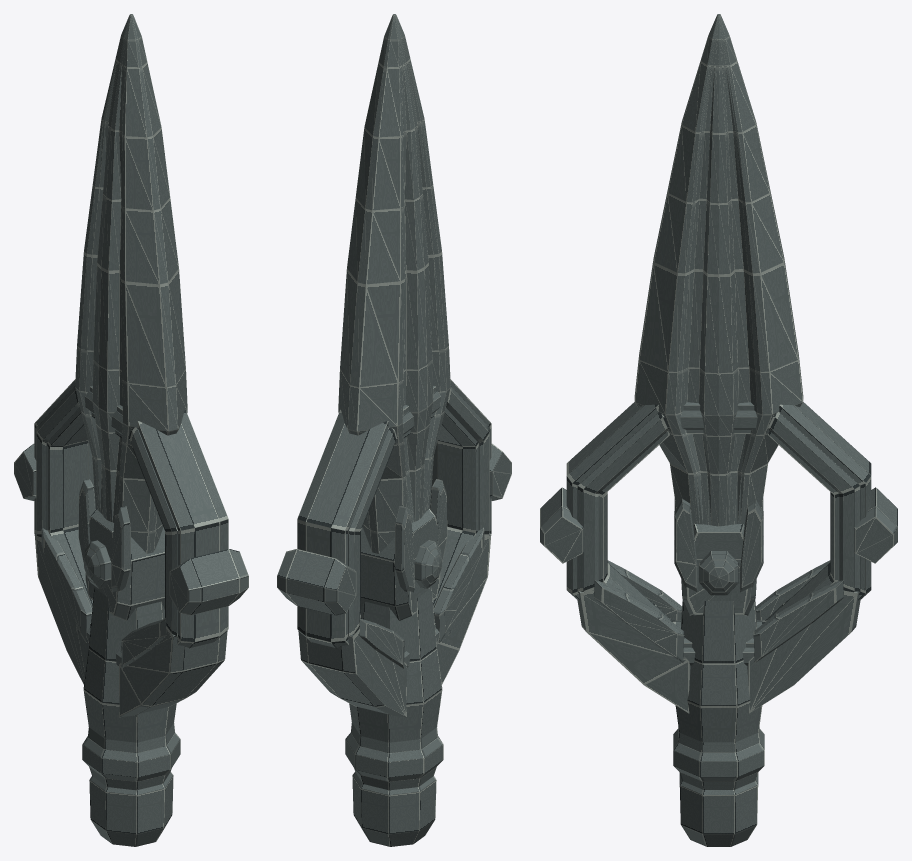
Rendered from workpiece_jindan_jinwu_spear_shaped.obj.
3 views of the same model, side by side, from view 1: azimuth 30°, elevation 25°; view 2: azimuth 150°, elevation 25°; view 3: azimuth 270°, elevation 25° (orthographic).
Visible parts, largest first — view 1: geometry; view 2: geometry; view 3: geometry.
Boxes of the visible parts, box(x1,y1,x2,y2) form: geometry: box(14, 14, 248, 846); geometry: box(277, 14, 511, 846); geometry: box(540, 14, 897, 846).
Bounding box in the file's own units: 0.1269 × 1.12 × 0.445.
